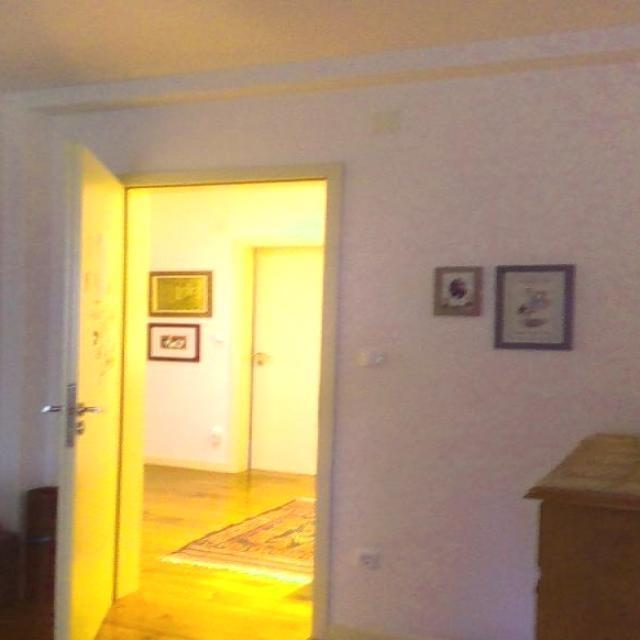door: (27, 140, 136, 638)
